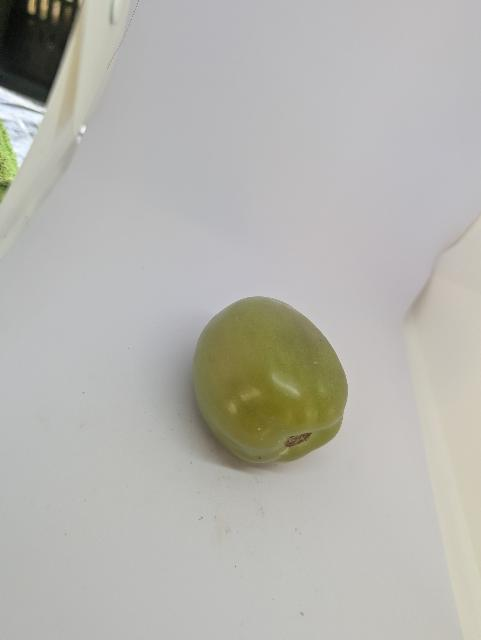green: (187, 285, 355, 480)
